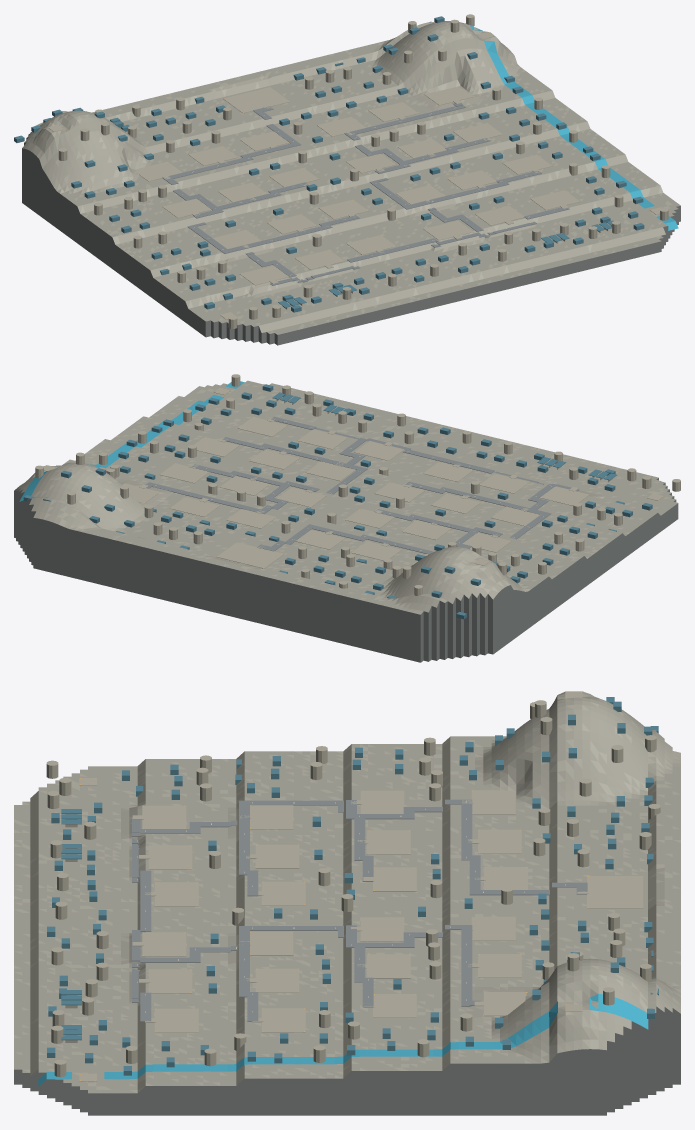
Rendered from ground.glb.
3 renders of one model, top to bottom at view 1: azimuth 30°, elevation 25°; view 2: azimuth 150°, elevation 25°; view 3: azimuth 270°, elevation 25°, orthographic. The views are drawn at different scales.
Visible parts, largest first — view 1: planet_industrial__Terrain, planet_industrial__Roads, planet_industrial__Decoration; view 2: planet_industrial__Terrain, planet_industrial__Roads, planet_industrial__Decoration; view 3: planet_industrial__Terrain, planet_industrial__Roads, planet_industrial__Decoration.
Part boxes in pixels (<box>): planet_industrial__Terrain: <box>22,21,680,345</box>; planet_industrial__Roads: <box>48,32,661,319</box>; planet_industrial__Decoration: <box>14,14,668,328</box>; planet_industrial__Terrain: <box>14,380,678,662</box>; planet_industrial__Roads: <box>44,388,663,568</box>; planet_industrial__Decoration: <box>23,374,680,619</box>; planet_industrial__Terrain: <box>14,691,680,1115</box>; planet_industrial__Roads: <box>79,691,643,1081</box>; planet_industrial__Decoration: <box>46,697,660,1077</box>.
Size of the model in its own units: 188 by 32.94 by 162.
